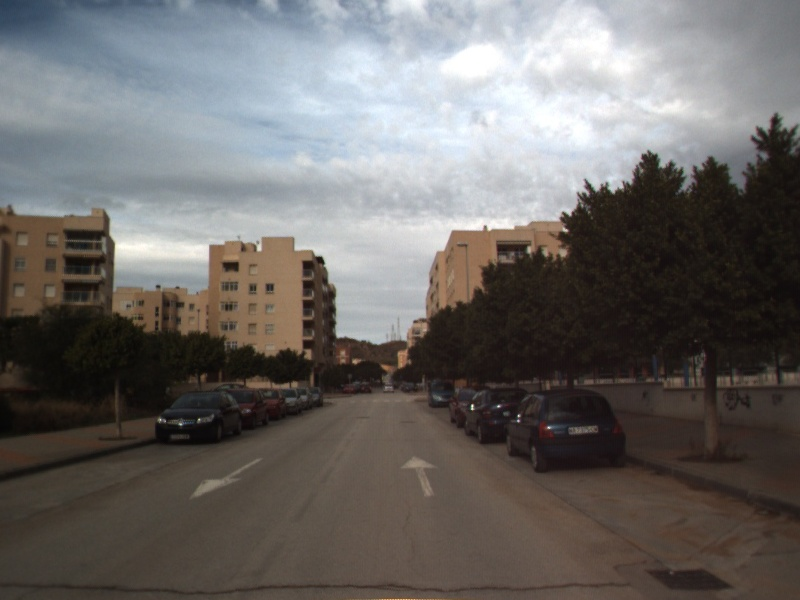STRAIGHT: (398, 454, 441, 499)
